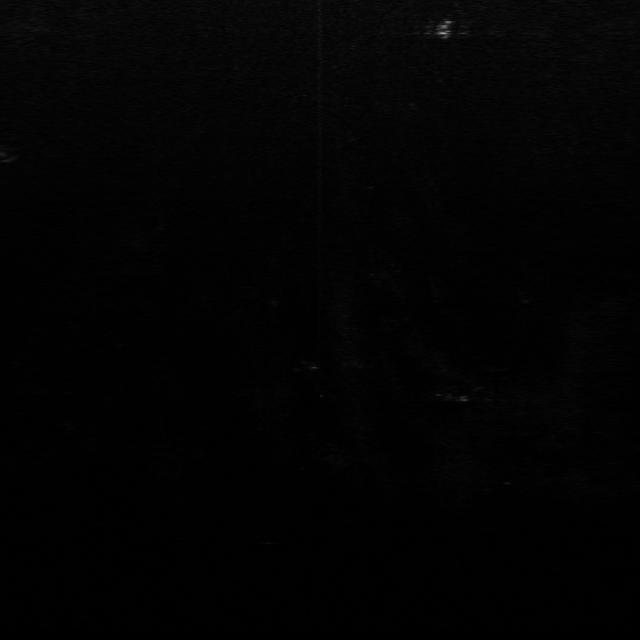rov: (432, 16, 461, 42)
